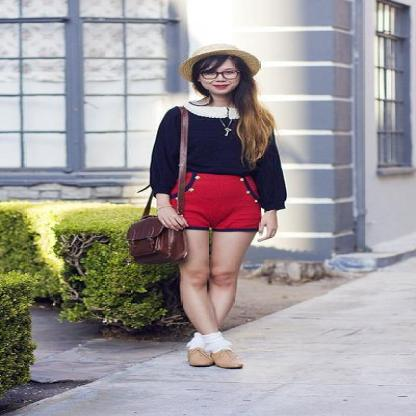bag: (120, 108, 192, 266)
hat: (188, 35, 259, 76)
jacket: (138, 108, 286, 212)
shoe: (181, 346, 242, 369)
shorts: (170, 173, 261, 241)
